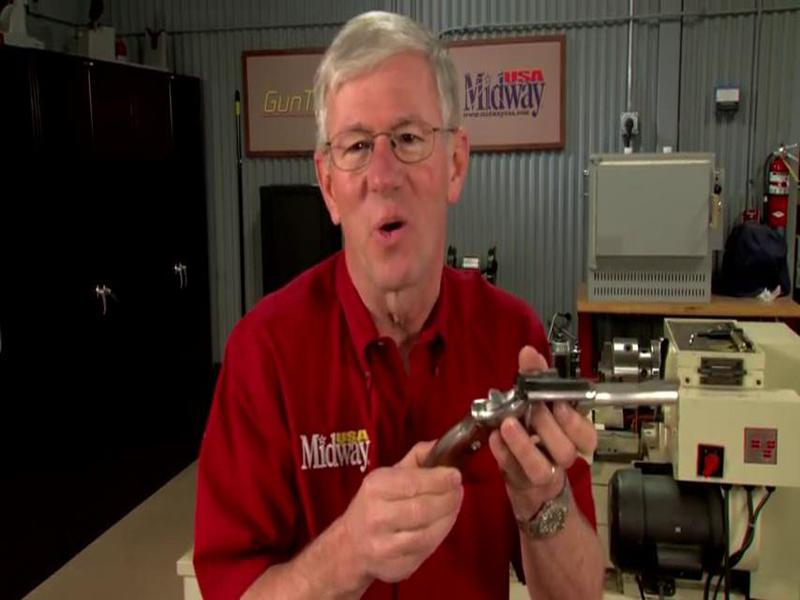Revolver: (417, 354, 699, 507)
